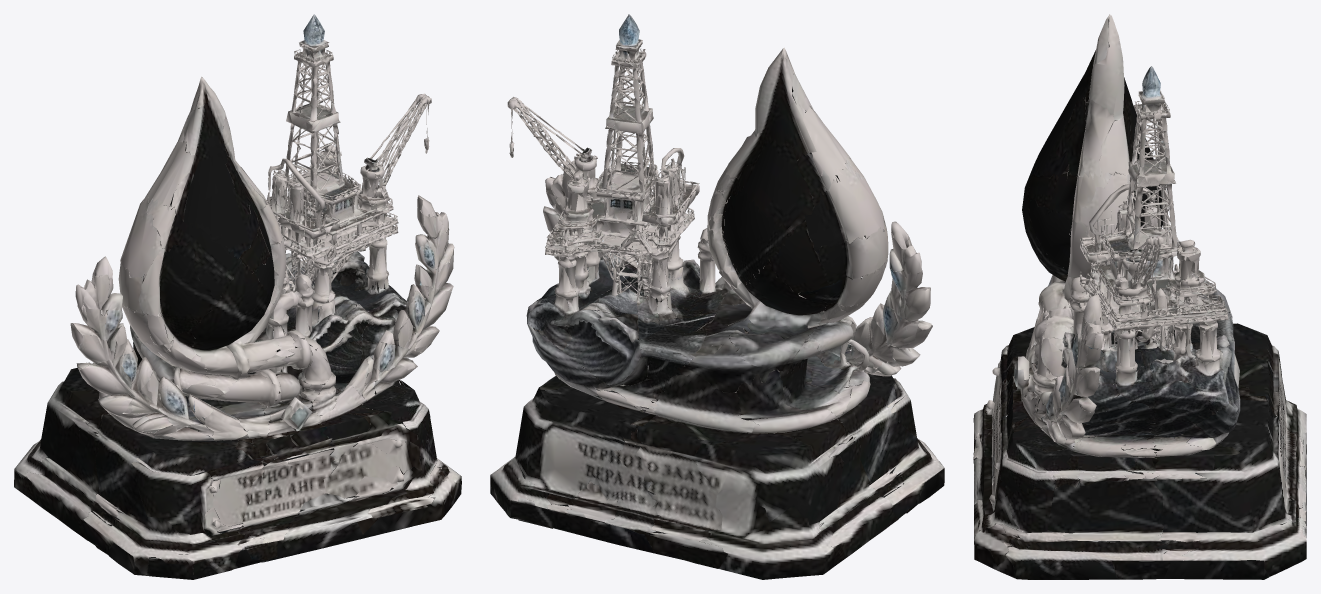
The model's file is award-vera.glb.
The picture shows the model from 3 angles, left to right: view 1: azimuth 30°, elevation 25°; view 2: azimuth 150°, elevation 25°; view 3: azimuth 270°, elevation 25°; orthographic projection. The views are drawn at different scales.
Visible parts, largest first — view 1: Mesh_0; view 2: Mesh_0; view 3: Mesh_0.
Boxes of the visible parts, x1,y1,x2,y2 form: Mesh_0: (14,14,461,579); Mesh_0: (490,14,944,579); Mesh_0: (973,14,1306,579).
Size of the model in its own units: 1.7 by 1.9 by 1.22.
Materials: 1 (1 with a texture image).
